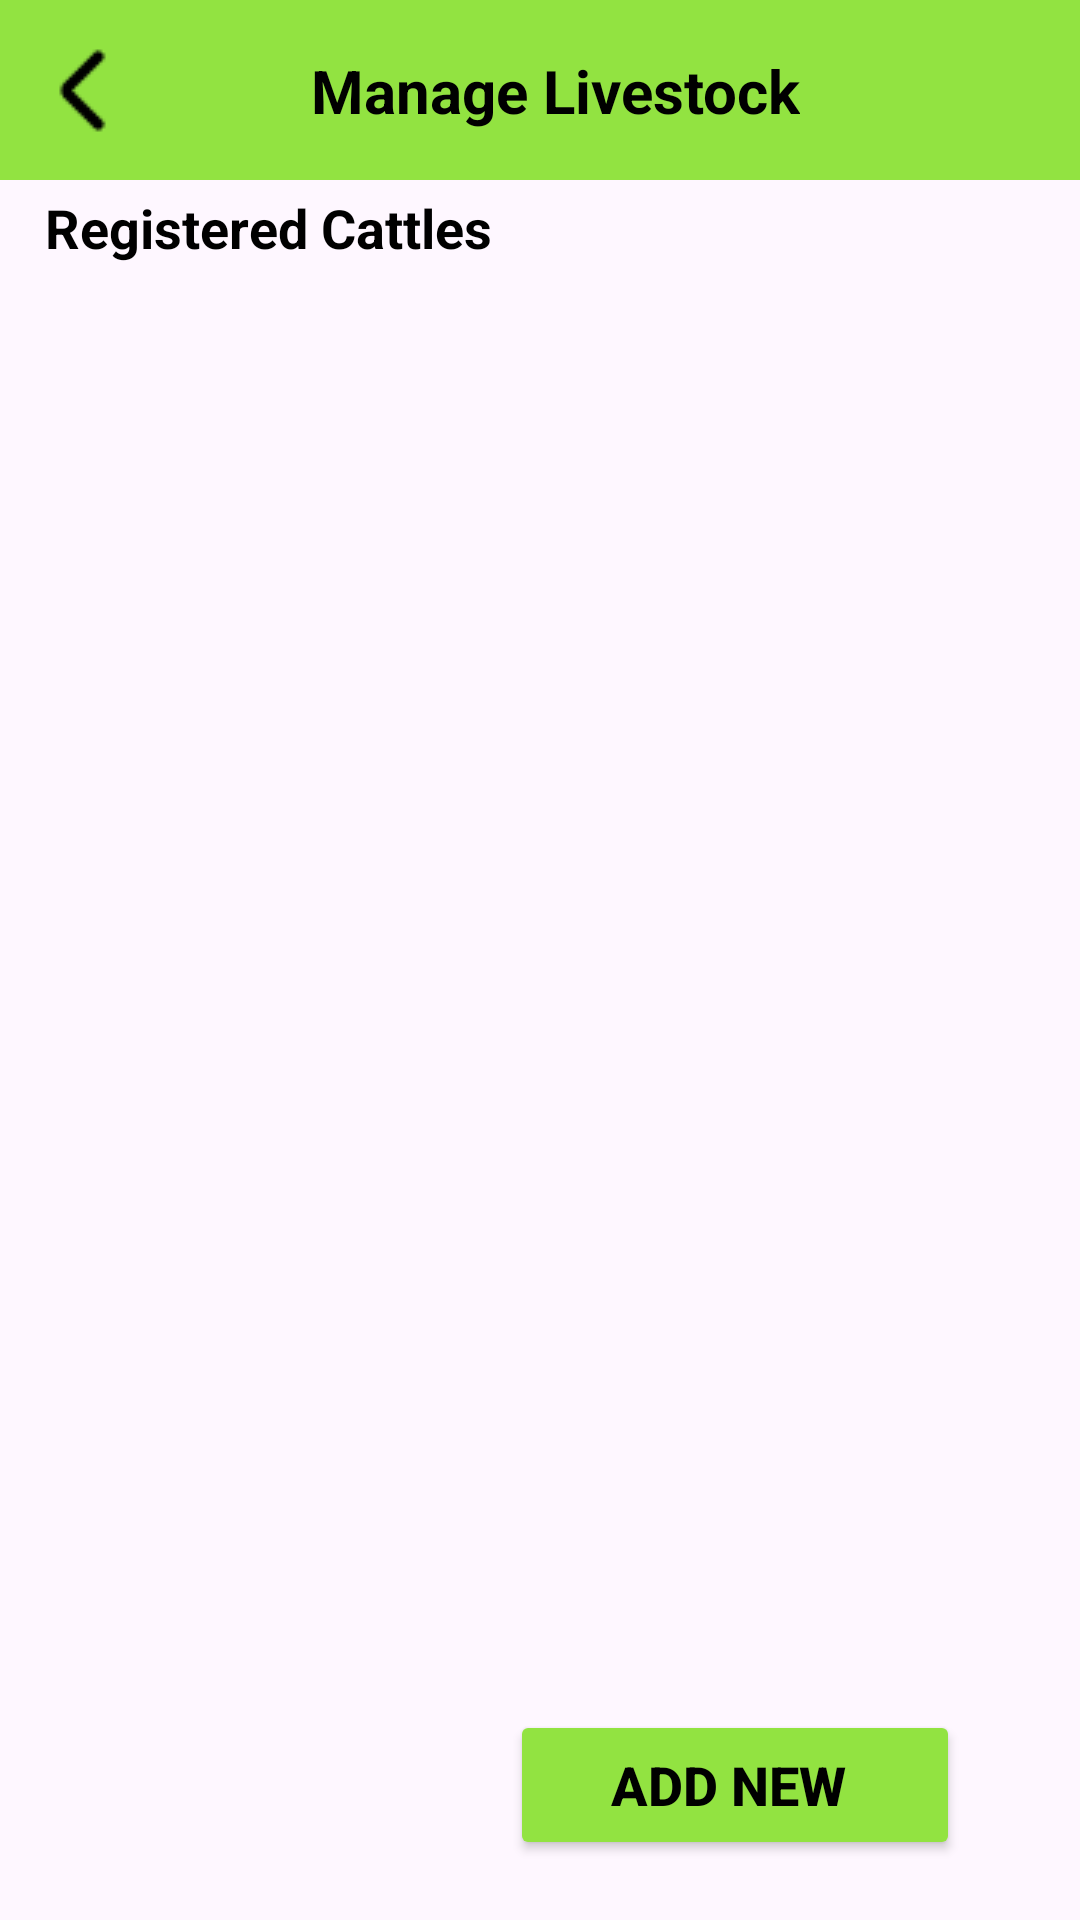

Icon click points for this 1080px x 1920px phone screenshot, format (x=x, y=y):
back arrow: (x=82, y=90)
